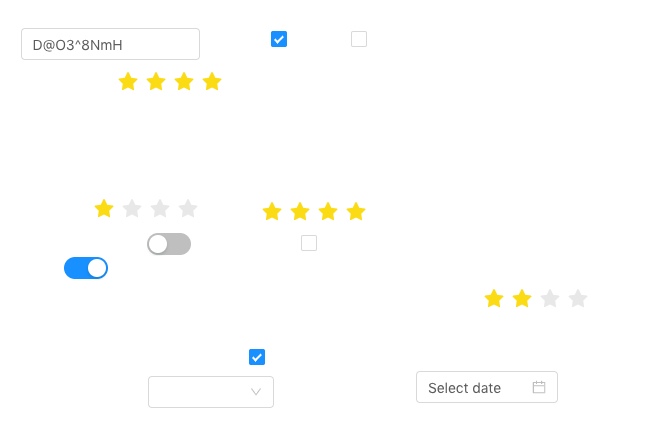Checkbox: (271, 28, 287, 49), (249, 346, 265, 367), (301, 232, 317, 253), (351, 28, 367, 49)
DatePicker: (416, 371, 558, 403)
Input: (21, 28, 200, 60)
Rate: (262, 195, 382, 227), (94, 192, 214, 224), (484, 282, 604, 314), (118, 65, 238, 97)
Select: (148, 376, 274, 408)
Switch: (147, 232, 191, 256), (64, 256, 108, 280)
